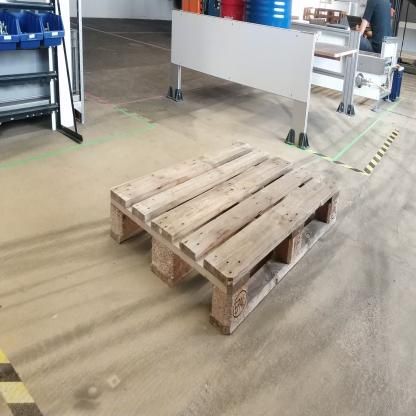BoxFace: (107, 132, 345, 345)
